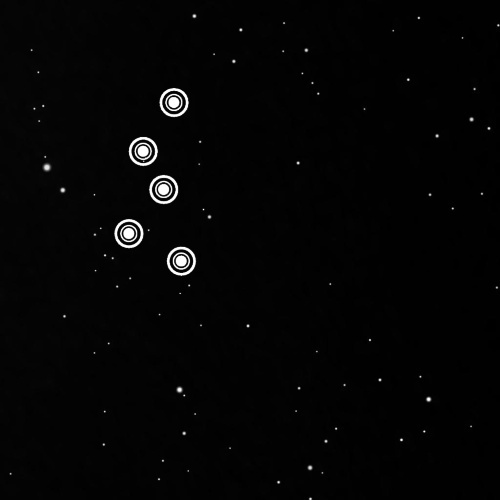cassiopeia: (95, 70, 209, 287)
